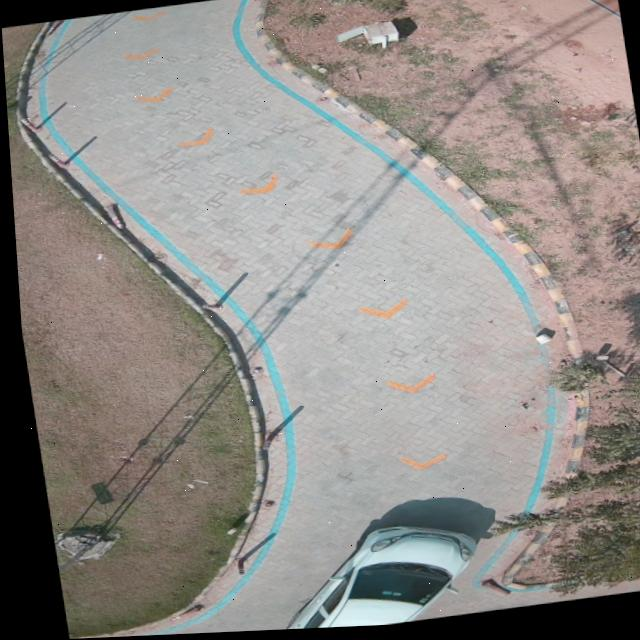car: (277, 527, 472, 631)
